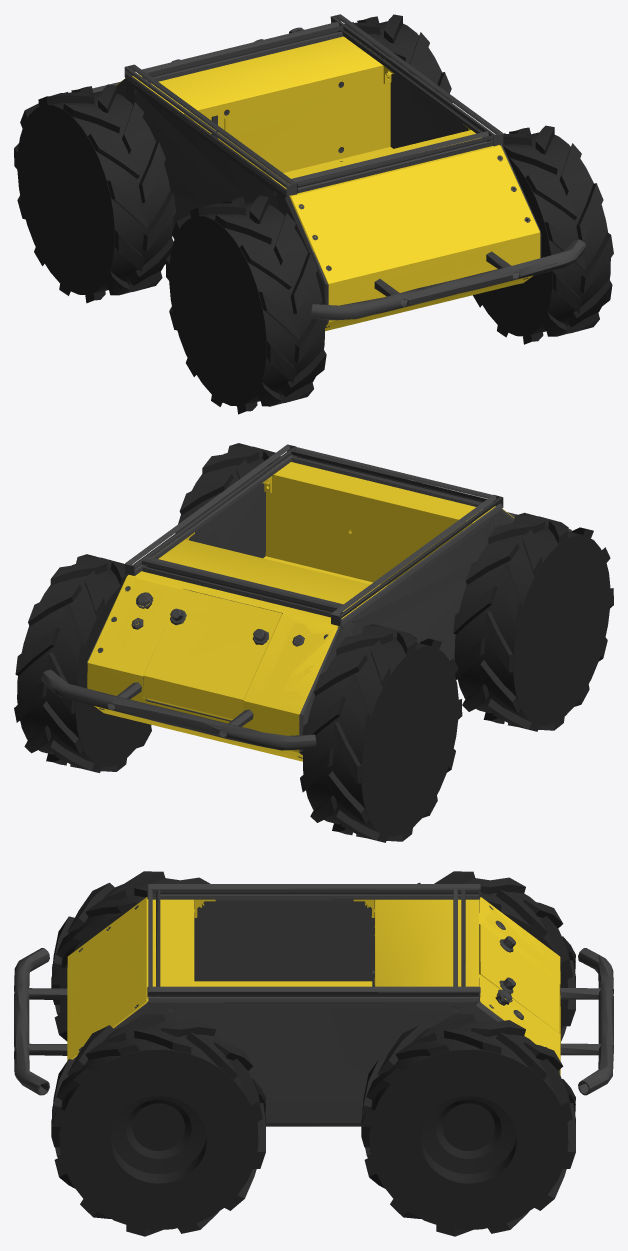
File: Husky2.fbx
3 views of the same model, one above another, from view 1: azimuth 30°, elevation 25°; view 2: azimuth 150°, elevation 25°; view 3: azimuth 270°, elevation 25° (orthographic). The views are drawn at different scales.
Parts seen in each view (by area): view 1: body, wheel_b_r, wheel_f_r, wheel_f_l, wheel_b_l; view 2: body, wheel_f_r, wheel_b_r, wheel_b_l, wheel_f_l; view 3: body, wheel_b_l, wheel_f_l, wheel_f_r, wheel_b_r.
Boxes of the visible parts, x1,y1,x2,y2 form: body: (92, 14, 586, 331); wheel_b_r: (14, 84, 176, 303); wheel_f_r: (165, 195, 327, 414); wheel_f_l: (473, 125, 613, 344); wheel_b_l: (344, 14, 452, 102); body: (41, 444, 571, 761); wheel_f_r: (453, 512, 613, 731); wheel_b_r: (300, 624, 462, 842); wheel_b_l: (14, 554, 151, 772); wheel_f_l: (175, 443, 280, 533); body: (14, 884, 613, 1126); wheel_b_l: (361, 1013, 575, 1236); wheel_f_l: (51, 1013, 265, 1236); wheel_f_r: (51, 871, 210, 1041); wheel_b_r: (417, 871, 575, 1041).
Size of the model in its own units: 66.81 by 38.79 by 98.72.
